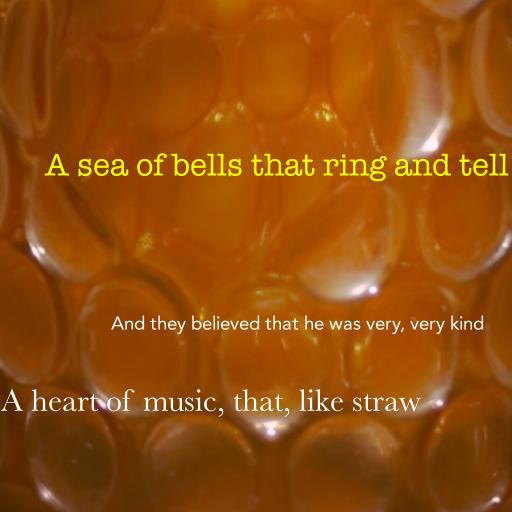American Typewriter: (45, 153, 509, 182)
Avenir: (110, 315, 484, 335)
Baskerville: (1, 389, 421, 417)
